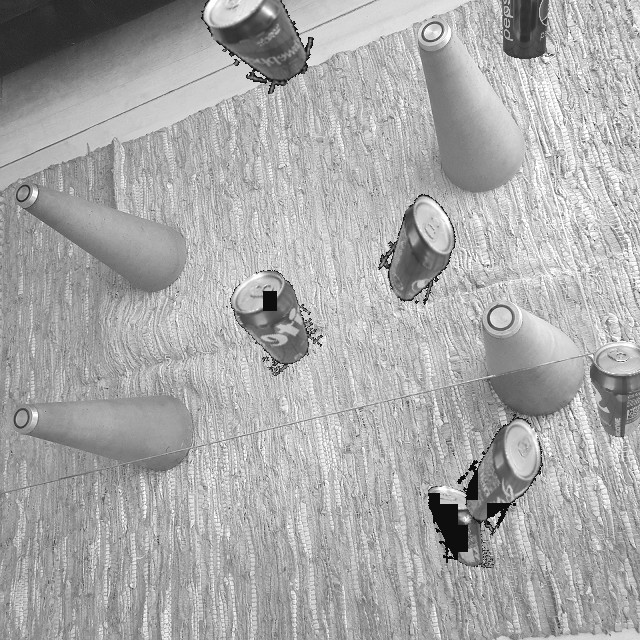coca cola: (439, 407, 557, 538)
pepsi: (354, 182, 485, 319), (422, 483, 495, 568), (501, 0, 550, 59)
schweppes: (181, 0, 337, 106)
sprite: (221, 261, 329, 378), (590, 341, 640, 437)
